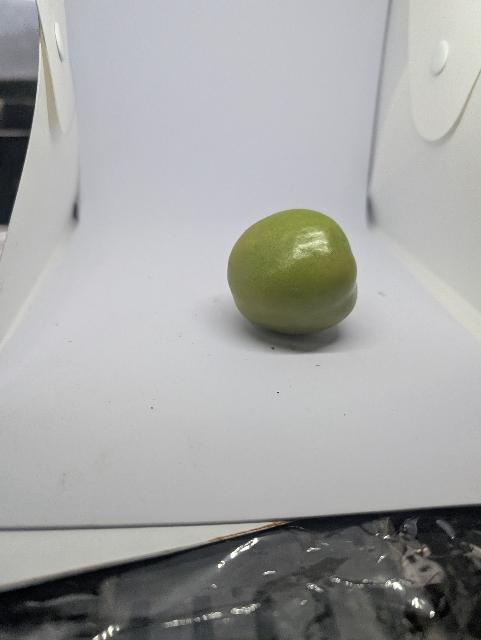green: (226, 206, 362, 338)
